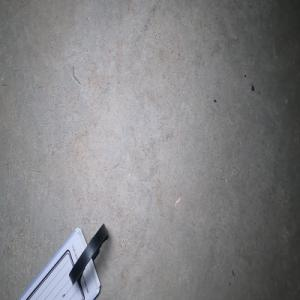LuggageTag: (16, 222, 109, 300)
